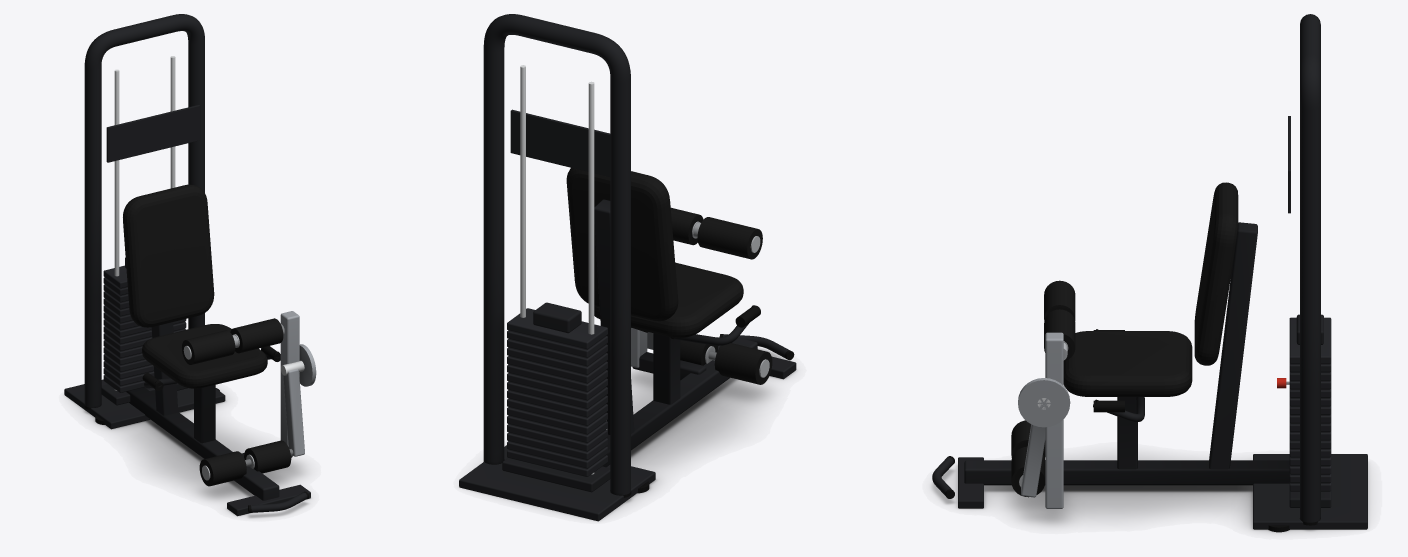
File: extensao-pernas.glb
3 renders of one model, left to right at view 1: azimuth 30°, elevation 25°; view 2: azimuth 150°, elevation 25°; view 3: azimuth 270°, elevation 25°, orthographic. The views are drawn at different scales.
Parts seen in each view (by area): view 1: Encosto, Arco, Sombra_Contacto, Assento, Placa_Nome, Calha_Base, Base, Montante, Braco, Espuma, Espuma_1, Poste_Assento (+10 smaller); view 2: Arco, Encosto, Sombra_Contacto, Base, Assento, Placa_Nome, Calha_Base, Poste_Encosto, Espuma, Poste_Assento, Guia, Espuma_2 (+23 smaller); view 3: Arco, Assento, Sombra_Contacto, Calha_Base, Poste_Encosto, Base, Encosto, Montante, Came, Poste_Assento, Braco, Espuma_1 (+4 smaller).
Part boxes in pixels (x1=…): Encosto: x1=123, y1=184, x2=214, y2=327; Arco: x1=84, y1=14, x2=204, y2=407; Sombra_Contacto: x1=65, y1=396, x2=309, y2=517; Assento: x1=142, y1=324, x2=267, y2=388; Placa_Nome: x1=106, y1=105, x2=200, y2=162; Calha_Base: x1=126, y1=387, x2=279, y2=500; Base: x1=64, y1=379, x2=225, y2=429; Montante: x1=280, y1=311, x2=299, y2=456; Braco: x1=283, y1=369, x2=304, y2=456; Espuma: x1=182, y1=330, x2=235, y2=364; Espuma_1: x1=230, y1=318, x2=283, y2=353; Poste_Assento: x1=194, y1=385, x2=215, y2=443; Arco: x1=483, y1=14, x2=630, y2=495; Encosto: x1=566, y1=168, x2=678, y2=321; Sombra_Contacto: x1=481, y1=348, x2=796, y2=519; Base: x1=459, y1=445, x2=655, y2=521; Assento: x1=594, y1=262, x2=743, y2=337; Placa_Nome: x1=510, y1=109, x2=610, y2=176; Calha_Base: x1=602, y1=338, x2=757, y2=467; Poste_Encosto: x1=594, y1=199, x2=634, y2=434; Espuma: x1=697, y1=217, x2=762, y2=259; Poste_Assento: x1=653, y1=333, x2=680, y2=404; Guia: x1=588, y1=81, x2=594, y2=474; Espuma_2: x1=714, y1=343, x2=772, y2=384; Arco: x1=1300, y1=14, x2=1320, y2=522; Assento: x1=1063, y1=331, x2=1192, y2=396; Sombra_Contacto: x1=931, y1=457, x2=1368, y2=532; Calha_Base: x1=964, y1=460, x2=1289, y2=485; Poste_Encosto: x1=1209, y1=222, x2=1257, y2=469; Base: x1=1253, y1=454, x2=1367, y2=529; Encosto: x1=1194, y1=182, x2=1238, y2=365; Montante: x1=1045, y1=332, x2=1063, y2=508; Came: x1=1018, y1=378, x2=1070, y2=427; Poste_Assento: x1=1117, y1=397, x2=1137, y2=469; Braco: x1=1021, y1=424, x2=1045, y2=497; Espuma_1: x1=1044, y1=309, x2=1075, y2=361.
Bounding box in the file's own units: 0.9522 × 1.94 × 1.87.
9 materials, 1 textured.
